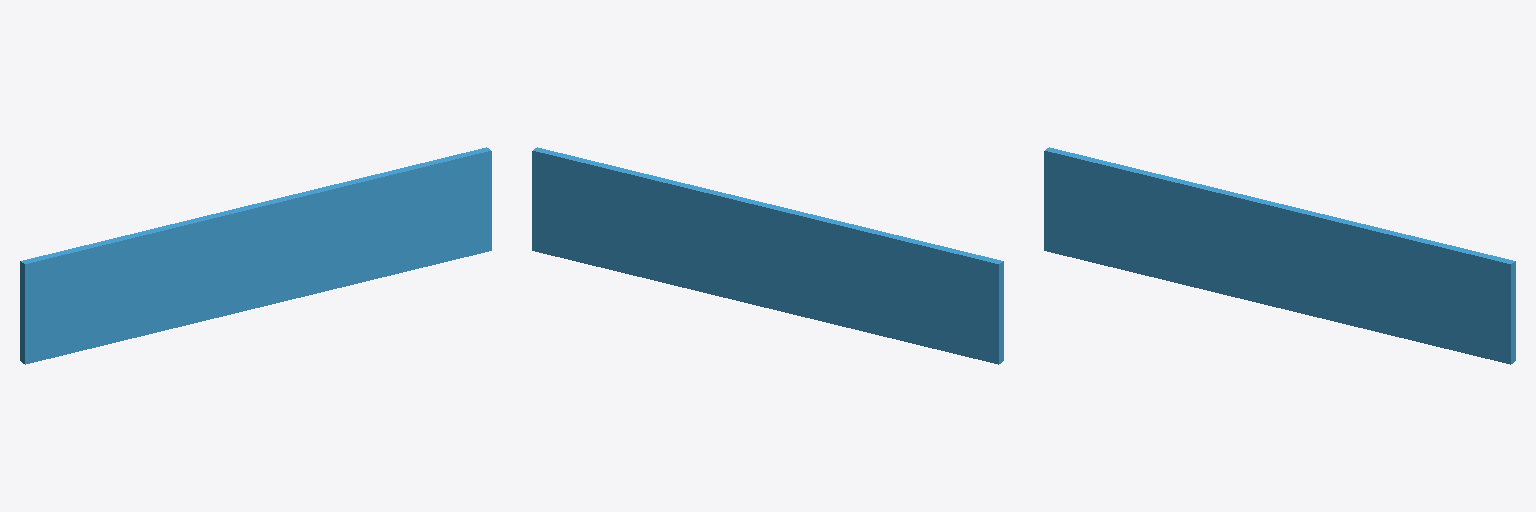
robot.urdf — hemis_18:
<?xml version="1.0" encoding="utf-8"?>    
    <robot name="hemis_18">
        <link name="hemis_18">    
            <fem>
                <origin rpy="0.0 0.0 0.0" xyz="0 0 0" />
                <density value="100" />
                <youngs value="4105"/>
                <poissons value="0.3" />
                <damping value="0.0" />
                <attachDistance value="0.04" />
                <tetmesh filename="[local-path]/sim_data/Custom/Custom_mesh/multi_hemis_5kPa/hemis_18.tet" />
                <scale value="0.5"/>
            </fem>
        </link>

        <link name="fix_frame">
            <visual>
                <origin xyz="0 -10.123315538642816 0.061657769321407666"/>              
                <geometry>
                    <box size="0.3 0.005 0.061657769321407666"/>
                </geometry>
            </visual>
            <collision>
                <origin xyz="0 -0.12331553864281532 0.061657769321407666"/>              
                <geometry>
                    <box size="0.3 0.005 0.061657769321407666"/>
                </geometry>
            </collision>
            <inertial>
                <mass value="500000"/>
                <inertia ixx="0.05" ixy="0.0" ixz="0.0" iyy="0.05" iyz="0.0" izz="0.05"/>
            </inertial>
        </link>
        
        <joint name = "attach" type = "fixed">
            <origin xyz = "0.0 0.0 0.0" rpy = "0 0 0"/>
            <parent link ="hemis_18"/>
            <child link = "fix_frame"/>
        </joint>  




    </robot>
    

--- What the picture shows (computed from the rendered views, not written in the file) ---
The picture shows the robot from 3 angles, left to right: view 1: azimuth 30°, elevation 25°; view 2: azimuth 150°, elevation 25°; view 3: azimuth 330°, elevation 25°; orthographic projection.
Model hemis_18 with 2 links and 1 joints (1 fixed), rooted at hemis_18, posed all joints at 0.
Visible links, largest first — view 1: fix_frame; view 2: fix_frame; view 3: fix_frame.
Boxes of the visible links, x1,y1,x2,y2 form: fix_frame: (20, 147, 491, 364); fix_frame: (532, 147, 1003, 364); fix_frame: (1044, 147, 1515, 364).
Size in the robot's own frame: 0.3 by 0.005 by 0.0617 metres.
Geometry: primitives only (box / cylinder / sphere), no mesh files.